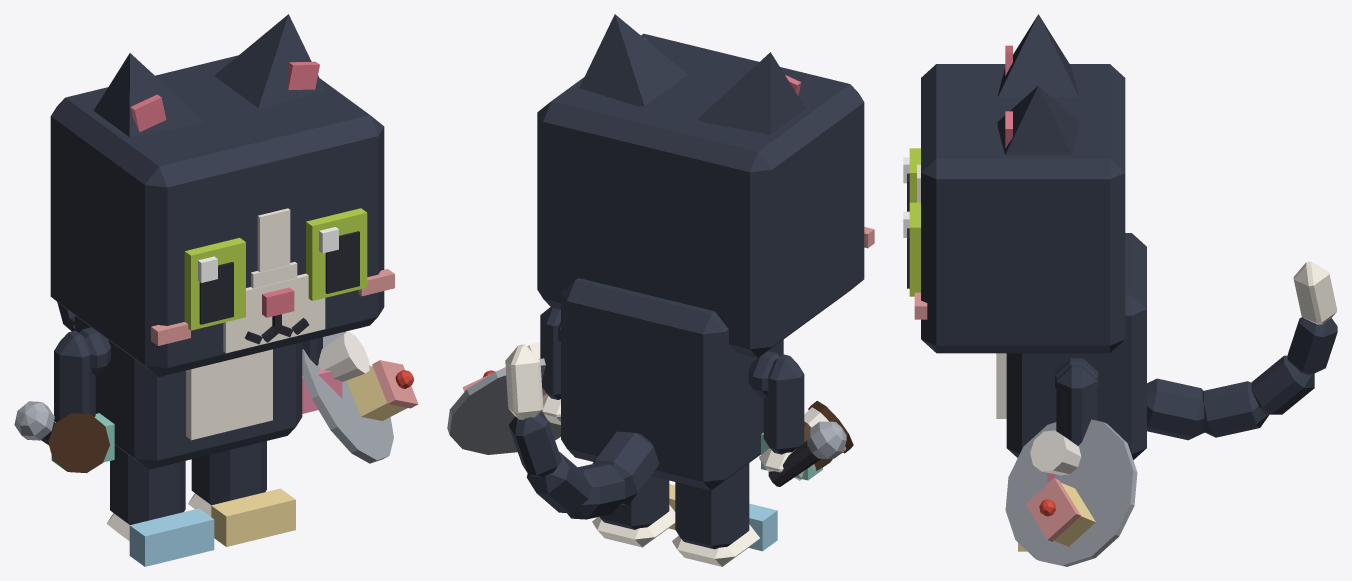
File: CatCafe_Cat_Socks_Work.glb
3 renders of one model, left to right at view 1: azimuth 30°, elevation 25°; view 2: azimuth 150°, elevation 25°; view 3: azimuth 270°, elevation 25°, orthographic. The views are drawn at different scales.
Visible parts, largest first — view 1: CatCafe_Cat_Socks_Work_Head, CatCafe_Cat_Socks_Work_Body, CatCafe_Cat_Socks_Work_Held_Waiter, CatCafe_Cat_Socks_Work_LegB2, CatCafe_Cat_Socks_Work_LegB1, CatCafe_Cat_Socks_Work_EarL, CatCafe_Cat_Socks_Work_Eye2, CatCafe_Cat_Socks_Work_Eye1, CatCafe_Cat_Socks_Work_EarR, CatCafe_Cat_Socks_Work_LegF2, CatCafe_Cat_Socks_Work_Held_Barista, CatCafe_Cat_Socks_Work_Held_Entertainer (+1 smaller); view 2: CatCafe_Cat_Socks_Work_Head, CatCafe_Cat_Socks_Work_Body, CatCafe_Cat_Socks_Work_Tail, CatCafe_Cat_Socks_Work_LegB2, CatCafe_Cat_Socks_Work_EarL, CatCafe_Cat_Socks_Work_EarR, CatCafe_Cat_Socks_Work_Held_Waiter, CatCafe_Cat_Socks_Work_LegF2, CatCafe_Cat_Socks_Work_LegB1, CatCafe_Cat_Socks_Work_Held_Entertainer, CatCafe_Cat_Socks_Work_LegF1, CatCafe_Cat_Socks_Work_Held_Barista; view 3: CatCafe_Cat_Socks_Work_Head, CatCafe_Cat_Socks_Work_Held_Waiter, CatCafe_Cat_Socks_Work_Body, CatCafe_Cat_Socks_Work_Tail, CatCafe_Cat_Socks_Work_EarL, CatCafe_Cat_Socks_Work_EarR, CatCafe_Cat_Socks_Work_LegF1, CatCafe_Cat_Socks_Work_Eye1, CatCafe_Cat_Socks_Work_Eye2.
Part boxes in pixels (x1,y1,x2,y2): CatCafe_Cat_Socks_Work_Head: (50,55,394,376); CatCafe_Cat_Socks_Work_Body: (75,315,302,469); CatCafe_Cat_Socks_Work_Held_Waiter: (302,331,418,463); CatCafe_Cat_Socks_Work_LegB2: (106,445,214,566); CatCafe_Cat_Socks_Work_LegB1: (188,441,295,546); CatCafe_Cat_Socks_Work_EarL: (214,14,324,108); CatCafe_Cat_Socks_Work_Eye2: (184,237,245,330); CatCafe_Cat_Socks_Work_Eye1: (306,208,367,300); CatCafe_Cat_Socks_Work_EarR: (93,53,204,137); CatCafe_Cat_Socks_Work_LegF2: (51,330,114,470); CatCafe_Cat_Socks_Work_Held_Barista: (48,413,109,473); CatCafe_Cat_Socks_Work_Held_Entertainer: (14,401,55,444); CatCafe_Cat_Socks_Work_Head: (537,33,874,357); CatCafe_Cat_Socks_Work_Body: (558,278,783,490); CatCafe_Cat_Socks_Work_Tail: (505,344,659,519); CatCafe_Cat_Socks_Work_LegB2: (672,463,777,566); CatCafe_Cat_Socks_Work_EarL: (579,14,687,106); CatCafe_Cat_Socks_Work_EarR: (698,52,805,134); CatCafe_Cat_Socks_Work_Held_Waiter: (447,342,560,454); CatCafe_Cat_Socks_Work_LegF2: (759,354,822,480); CatCafe_Cat_Socks_Work_LegB1: (592,476,675,547); CatCafe_Cat_Socks_Work_Held_Entertainer: (768,421,846,486); CatCafe_Cat_Socks_Work_LegF1: (540,307,560,424); CatCafe_Cat_Socks_Work_Held_Barista: (793,401,853,480); CatCafe_Cat_Socks_Work_Head: (914,64,1125,353); CatCafe_Cat_Socks_Work_Held_Waiter: (1005,419,1137,566); CatCafe_Cat_Socks_Work_Body: (996,233,1146,459); CatCafe_Cat_Socks_Work_Tail: (1147,261,1337,440); CatCafe_Cat_Socks_Work_EarL: (997,85,1079,155); CatCafe_Cat_Socks_Work_EarR: (997,14,1079,97); CatCafe_Cat_Socks_Work_LegF1: (1047,364,1097,482); CatCafe_Cat_Socks_Work_Eye1: (903,202,920,296); CatCafe_Cat_Socks_Work_Eye2: (903,148,920,211).
Size of the model in its own units: 1.53 by 1.93 by 1.62.
1 material, 1 textured.
